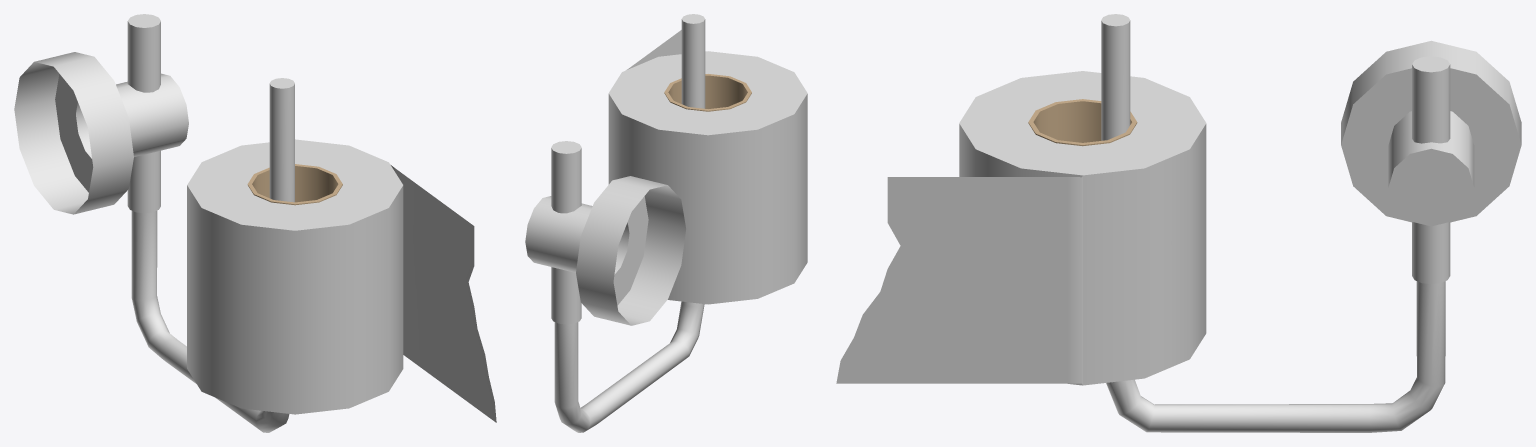
The picture shows the model from 3 angles, left to right: view 1: azimuth 30°, elevation 25°; view 2: azimuth 150°, elevation 25°; view 3: azimuth 270°, elevation 25°; orthographic projection. The views are drawn at different scales.
Parts seen in each view (by area): view 1: Circle; view 2: Circle; view 3: Circle.
Boxes of the visible parts, x1,y1,x2,y2 form: Circle: [14, 14, 496, 432]; Circle: [525, 14, 807, 432]; Circle: [836, 14, 1521, 432].
Bounding box in the file's own units: 30.14 × 55.25 × 83.38.
